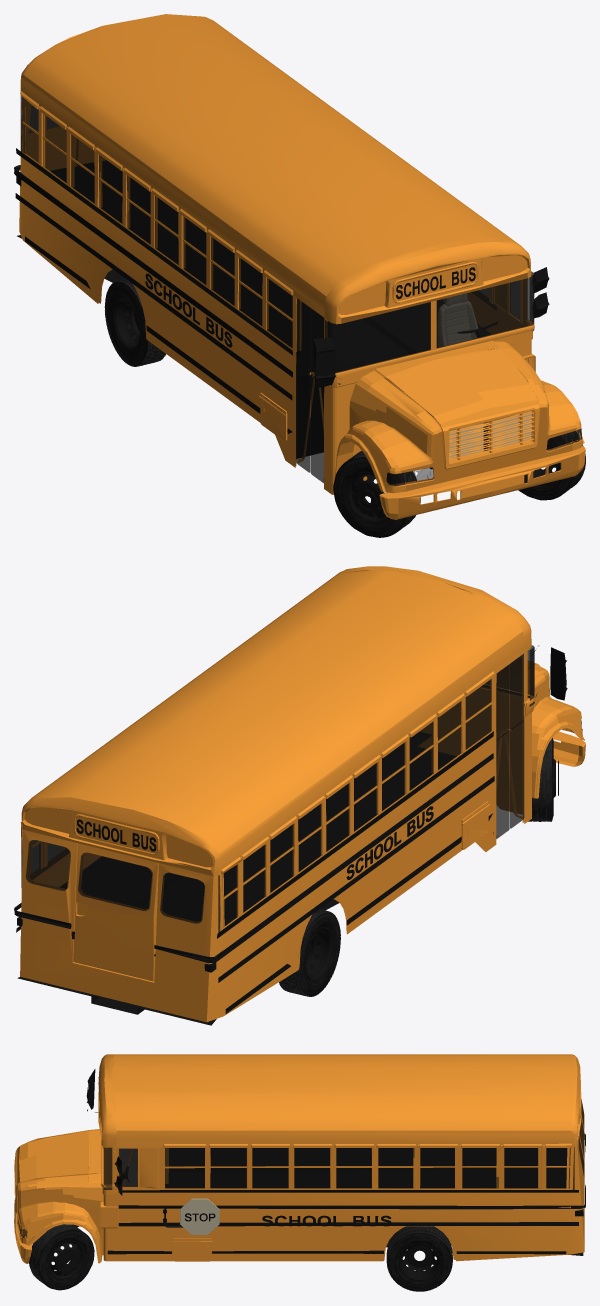
Rendered from SchoolBus.fbx.
The picture shows the model from 3 angles, top to bottom: view 1: azimuth 30°, elevation 25°; view 2: azimuth 150°, elevation 25°; view 3: azimuth 270°, elevation 25°; orthographic projection. The views are drawn at different scales.
Visible parts, largest first — view 1: school bus253.002, school bus253.003, school bus253.005, school bus253.004, school bus253.001; view 2: school bus253.002, school bus253.005, school bus253.003, school bus253.004; view 3: school bus253.002, school bus253.003, school bus253.005, school bus253.004, school bus253.001.
Part boxes in pixels (<box>): school bus253.002: <box>19,14,585,519</box>; school bus253.003: <box>14,148,560,523</box>; school bus253.005: <box>20,95,582,486</box>; school bus253.004: <box>104,279,585,537</box>; school bus253.001: <box>437,293,531,458</box>; school bus253.002: <box>20,566,585,1022</box>; school bus253.005: <box>21,645,581,932</box>; school bus253.003: <box>14,645,567,1025</box>; school bus253.004: <box>279,738,553,996</box>; school bus253.002: <box>14,1054,584,1263</box>; school bus253.003: <box>48,1069,585,1280</box>; school bus253.005: <box>17,1099,584,1237</box>; school bus253.004: <box>29,1206,452,1291</box>; school bus253.001: <box>180,1198,219,1234</box>.
Size of the model in its own units: 493 by 455 by 1294.
